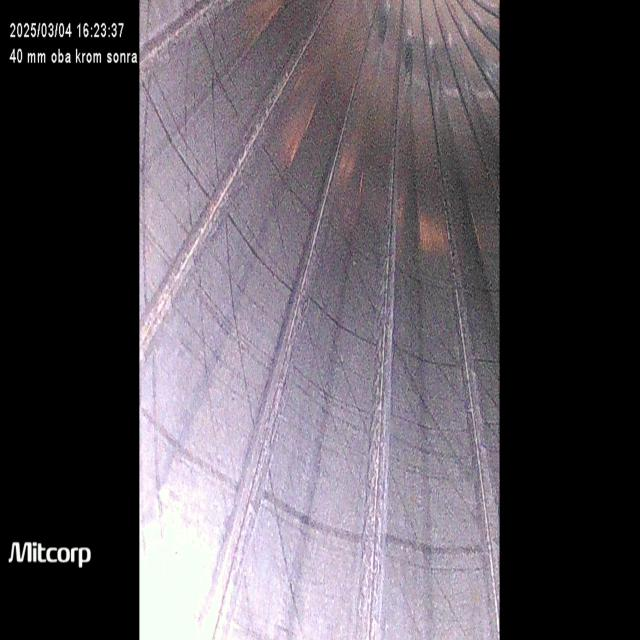hata_8.1: (137, 73, 498, 389), (259, 151, 472, 632), (138, 400, 498, 588), (174, 21, 261, 638), (347, 230, 503, 562), (213, 193, 315, 640), (140, 31, 174, 634)
